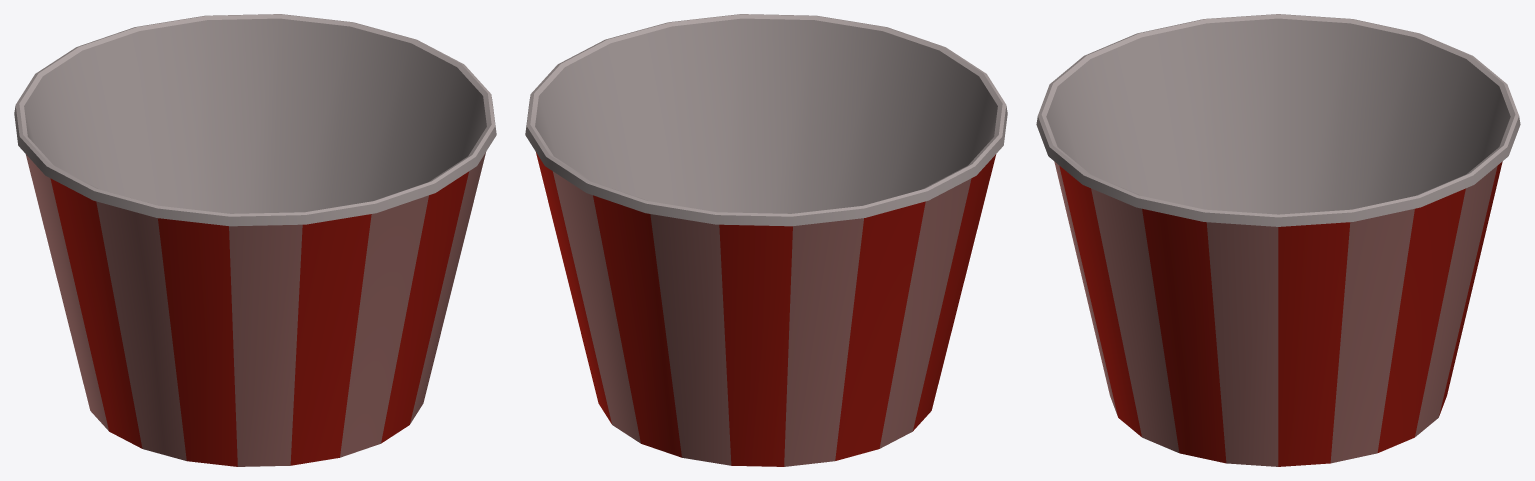
The model's file is Food Court_Fck Bucket.fbx.
3 views of the same model, side by side, from view 1: azimuth 30°, elevation 25°; view 2: azimuth 150°, elevation 25°; view 3: azimuth 270°, elevation 25° (orthographic).
Visible parts, largest first — view 1: pCylinder28; view 2: pCylinder28; view 3: pCylinder28.
Boxes of the visible parts, x1=… form: pCylinder28: x1=14, y1=14, x2=496, y2=466; pCylinder28: x1=525, y1=14, x2=1007, y2=466; pCylinder28: x1=1036, y1=14, x2=1520, y2=466.
Bounding box in the file's own units: 1.07 × 0.6872 × 1.07.
